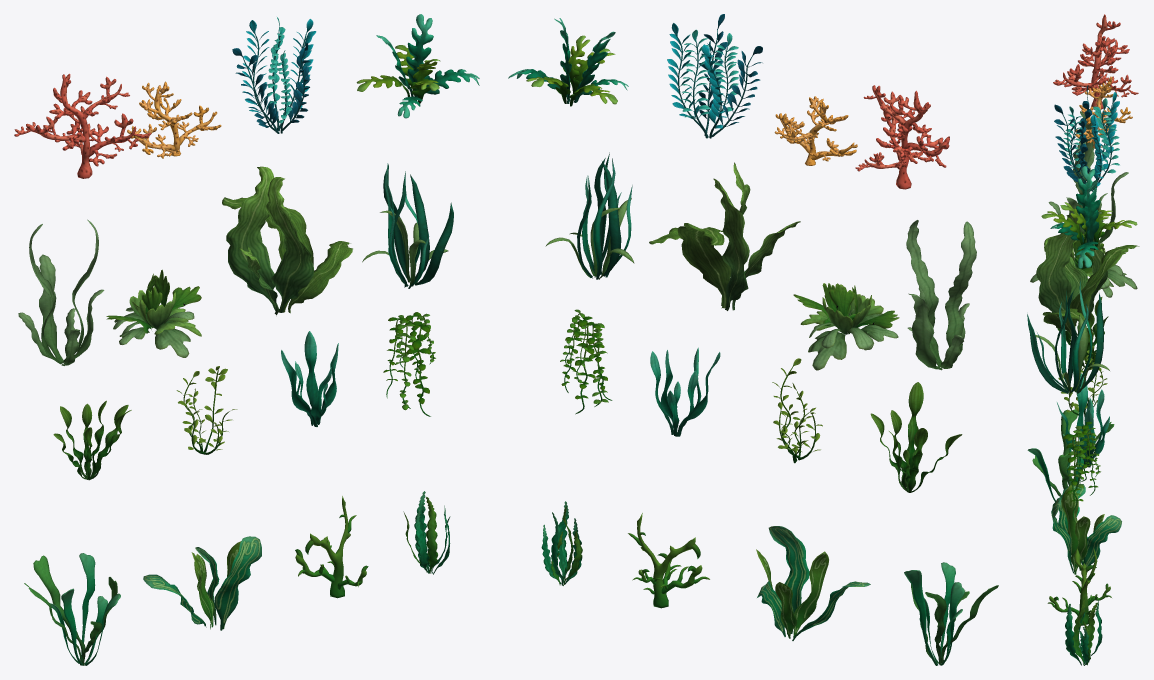
File: cartoon-seaweed-10.fbx
3 renders of one model, left to right at view 1: azimuth 30°, elevation 25°; view 2: azimuth 150°, elevation 25°; view 3: azimuth 270°, elevation 25°, orthographic. The views are drawn at different scales.
Parts seen in each view (by area): view 1: Cartoon Seaweed 10.11_Cartoon Seaweed 10_0, Cartoon Seaweed 10.3_Cartoon Seaweed 10_0, Cartoon Seaweed 10.10_Cartoon Seaweed 10_0, Cartoon Seaweed 10.12_Cartoon Seaweed 10_0, Cartoon Seaweed 10.1_Cartoon Seaweed 10_0, Cartoon Seaweed 10.14_Cartoon Seaweed 10_0, Cartoon Seaweed 10.9_Cartoon Seaweed 10_0, Cartoon Seaweed 10.4_Cartoon Seaweed 10_0, Cartoon Seaweed 10.13_Cartoon Seaweed 10_0, Cartoon Seaweed 10.2_Cartoon Seaweed 10_0, Cartoon Seaweed 10.7_Cartoon Seaweed 10_0, Cartoon Seaweed 10.8_Cartoon Seaweed 10_0 (+4 smaller); view 2: Cartoon Seaweed 10.11_Cartoon Seaweed 10_0, Cartoon Seaweed 10.9_Cartoon Seaweed 10_0, Cartoon Seaweed 10.3_Cartoon Seaweed 10_0, Cartoon Seaweed 10.10_Cartoon Seaweed 10_0, Cartoon Seaweed 10.14_Cartoon Seaweed 10_0, Cartoon Seaweed 10.12_Cartoon Seaweed 10_0, Cartoon Seaweed 10.1_Cartoon Seaweed 10_0, Cartoon Seaweed 10.4_Cartoon Seaweed 10_0, Cartoon Seaweed 10.13_Cartoon Seaweed 10_0, Cartoon Seaweed 10.5_Cartoon Seaweed 10_0, Cartoon Seaweed 10.8_Cartoon Seaweed 10_0, Cartoon Seaweed 10.15_Cartoon Seaweed 10_0 (+4 smaller); view 3: Cartoon Seaweed 10.11_Cartoon Seaweed 10_0, Cartoon Seaweed 10.12_Cartoon Seaweed 10_0, Cartoon Seaweed 10.3_Cartoon Seaweed 10_0, Cartoon Seaweed 10.14_Cartoon Seaweed 10_0, Cartoon Seaweed 10.4_Cartoon Seaweed 10_0, Cartoon Seaweed 10.1_Cartoon Seaweed 10_0, Cartoon Seaweed 10.8_Cartoon Seaweed 10_0, Cartoon Seaweed 10.16_Cartoon Seaweed 10_0, Cartoon Seaweed 10.7_Cartoon Seaweed 10_0, Cartoon Seaweed 10.13_Cartoon Seaweed 10_0, Cartoon Seaweed 10.9_Cartoon Seaweed 10_0, Cartoon Seaweed 10.15_Cartoon Seaweed 10_0 (+4 smaller).
Boxes of the visible parts, left/top/right/bottom form: Cartoon Seaweed 10.11_Cartoon Seaweed 10_0: left=222, top=166, right=352, bottom=315; Cartoon Seaweed 10.3_Cartoon Seaweed 10_0: left=232, top=17, right=316, bottom=133; Cartoon Seaweed 10.10_Cartoon Seaweed 10_0: left=106, top=269, right=201, bottom=357; Cartoon Seaweed 10.12_Cartoon Seaweed 10_0: left=362, top=163, right=453, bottom=288; Cartoon Seaweed 10.1_Cartoon Seaweed 10_0: left=14, top=73, right=151, bottom=178; Cartoon Seaweed 10.14_Cartoon Seaweed 10_0: left=143, top=536, right=261, bottom=630; Cartoon Seaweed 10.9_Cartoon Seaweed 10_0: left=18, top=219, right=104, bottom=365; Cartoon Seaweed 10.4_Cartoon Seaweed 10_0: left=356, top=14, right=479, bottom=118; Cartoon Seaweed 10.13_Cartoon Seaweed 10_0: left=24, top=553, right=120, bottom=665; Cartoon Seaweed 10.2_Cartoon Seaweed 10_0: left=127, top=81, right=221, bottom=158; Cartoon Seaweed 10.7_Cartoon Seaweed 10_0: left=281, top=331, right=338, bottom=426; Cartoon Seaweed 10.8_Cartoon Seaweed 10_0: left=383, top=312, right=435, bottom=416; Cartoon Seaweed 10.11_Cartoon Seaweed 10_0: left=649, top=162, right=800, bottom=310; Cartoon Seaweed 10.9_Cartoon Seaweed 10_0: left=906, top=220, right=976, bottom=370; Cartoon Seaweed 10.3_Cartoon Seaweed 10_0: left=667, top=14, right=762, bottom=138; Cartoon Seaweed 10.10_Cartoon Seaweed 10_0: left=793, top=283, right=899, bottom=370; Cartoon Seaweed 10.14_Cartoon Seaweed 10_0: left=756, top=526, right=870, bottom=640; Cartoon Seaweed 10.12_Cartoon Seaweed 10_0: left=545, top=152, right=634, bottom=279; Cartoon Seaweed 10.1_Cartoon Seaweed 10_0: left=855, top=85, right=949, bottom=189; Cartoon Seaweed 10.4_Cartoon Seaweed 10_0: left=508, top=18, right=628, bottom=106; Cartoon Seaweed 10.13_Cartoon Seaweed 10_0: left=904, top=562, right=998, bottom=665; Cartoon Seaweed 10.5_Cartoon Seaweed 10_0: left=870, top=382, right=962, bottom=492; Cartoon Seaweed 10.8_Cartoon Seaweed 10_0: left=560, top=309, right=612, bottom=414; Cartoon Seaweed 10.15_Cartoon Seaweed 10_0: left=628, top=513, right=709, bottom=608; Cartoon Seaweed 10.11_Cartoon Seaweed 10_0: left=1036, top=214, right=1139, bottom=337; Cartoon Seaweed 10.12_Cartoon Seaweed 10_0: left=1027, top=278, right=1109, bottom=394; Cartoon Seaweed 10.3_Cartoon Seaweed 10_0: left=1054, top=85, right=1119, bottom=191; Cartoon Seaweed 10.14_Cartoon Seaweed 10_0: left=1051, top=484, right=1121, bottom=574; Cartoon Seaweed 10.4_Cartoon Seaweed 10_0: left=1041, top=166, right=1137, bottom=268; Cartoon Seaweed 10.1_Cartoon Seaweed 10_0: left=1053, top=14, right=1138, bottom=109; Cartoon Seaweed 10.8_Cartoon Seaweed 10_0: left=1063, top=421, right=1100, bottom=521; Cartoon Seaweed 10.16_Cartoon Seaweed 10_0: left=1065, top=596, right=1102, bottom=665; Cartoon Seaweed 10.7_Cartoon Seaweed 10_0: left=1057, top=373, right=1109, bottom=467; Cartoon Seaweed 10.13_Cartoon Seaweed 10_0: left=1027, top=409, right=1114, bottom=501; Cartoon Seaweed 10.9_Cartoon Seaweed 10_0: left=1048, top=111, right=1128, bottom=243; Cartoon Seaweed 10.15_Cartoon Seaweed 10_0: left=1047, top=548, right=1111, bottom=625.
Size of the model in its own units: 6135 by 7388 by 1488.
1 material, 1 textured.
